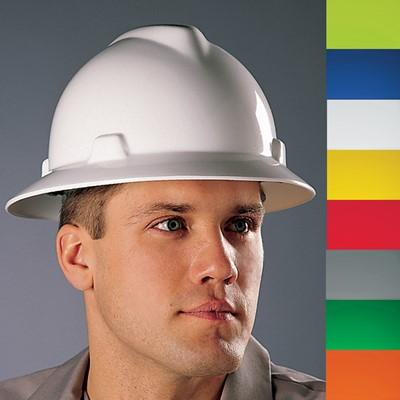helmet: (6, 21, 318, 224)
